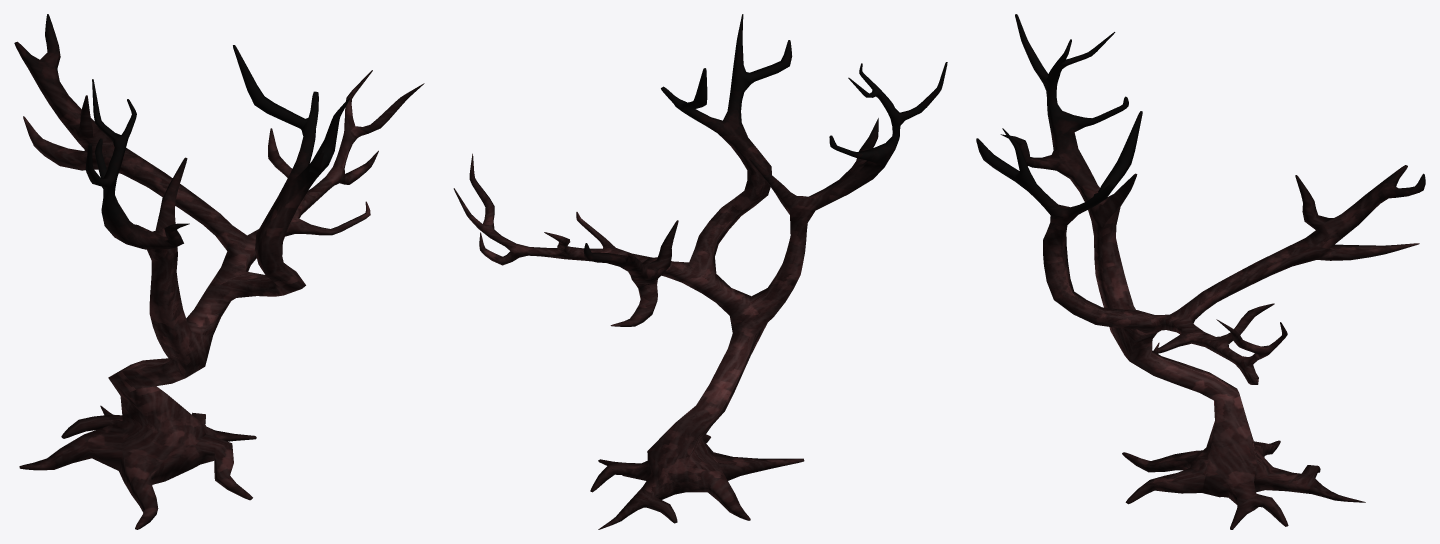
The model's file is ArbolBien.fbx.
The picture shows the model from 3 angles, left to right: view 1: azimuth 30°, elevation 25°; view 2: azimuth 150°, elevation 25°; view 3: azimuth 270°, elevation 25°; orthographic projection. The views are drawn at different scales.
Parts seen in each view (by area): view 1: Arbol; view 2: Arbol; view 3: Arbol.
Part boxes in pixels (box(x1,y1,x2,y2)): Arbol: box(14, 14, 424, 529); Arbol: box(453, 14, 947, 529); Arbol: box(976, 14, 1425, 529).
Bounding box in the file's own units: 3845 × 3845 × 3845.
